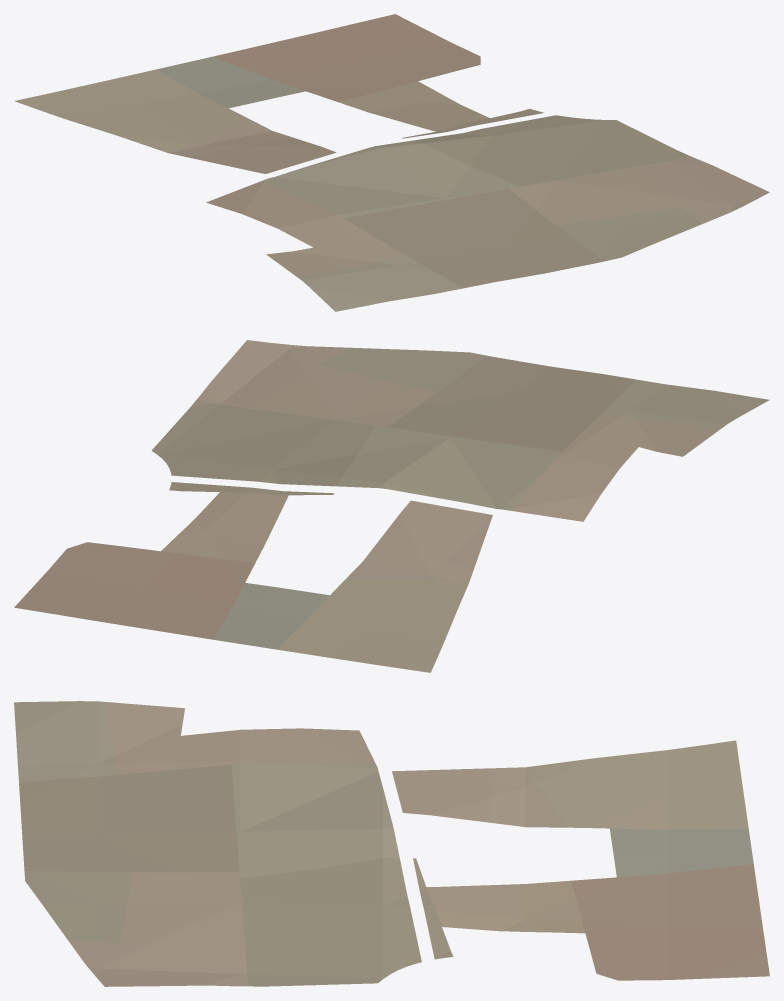
File: farm_14_-1_soil.glb
3 renders of one model, top to bottom at view 1: azimuth 30°, elevation 25°; view 2: azimuth 150°, elevation 25°; view 3: azimuth 270°, elevation 25°, orthographic. The views are drawn at different scales.
Parts seen in each view (by area): view 1: geometry_0; view 2: geometry_0; view 3: geometry_0.
Boxes of the visible parts, box(x1,y1,x2,y2) form: geometry_0: box(14, 14, 769, 311); geometry_0: box(14, 340, 769, 672); geometry_0: box(14, 701, 769, 986).
Bounding box in the file's own units: 339 × 37.53 × 424.
